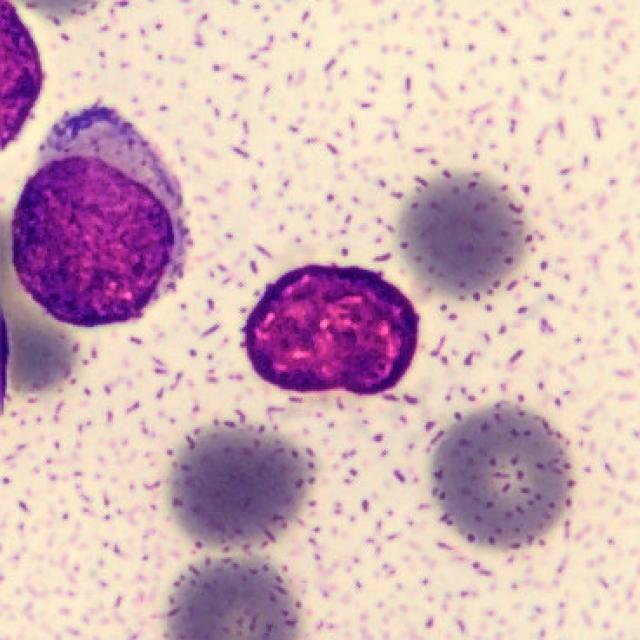Mieloblasto: (12, 104, 191, 330)
